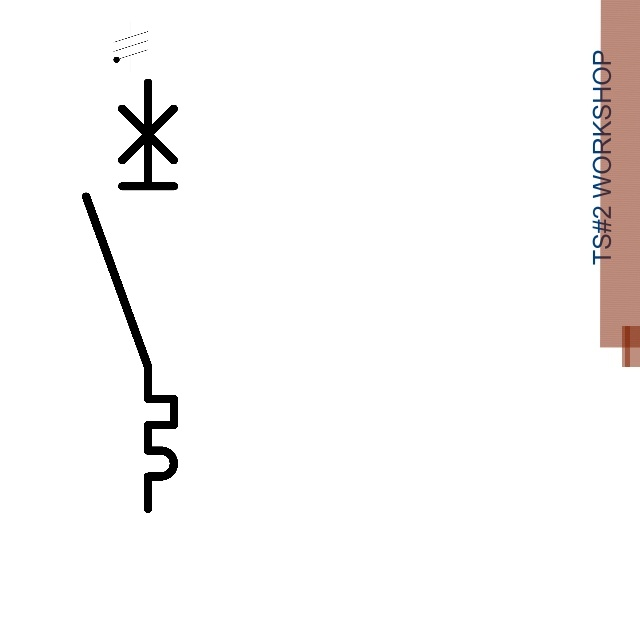interruptor_termomagnetico: (75, 71, 185, 519)
